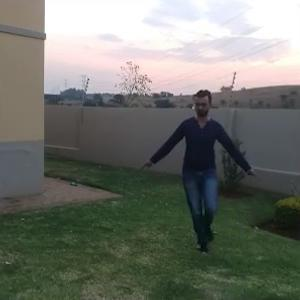land: (149, 87, 263, 265)
